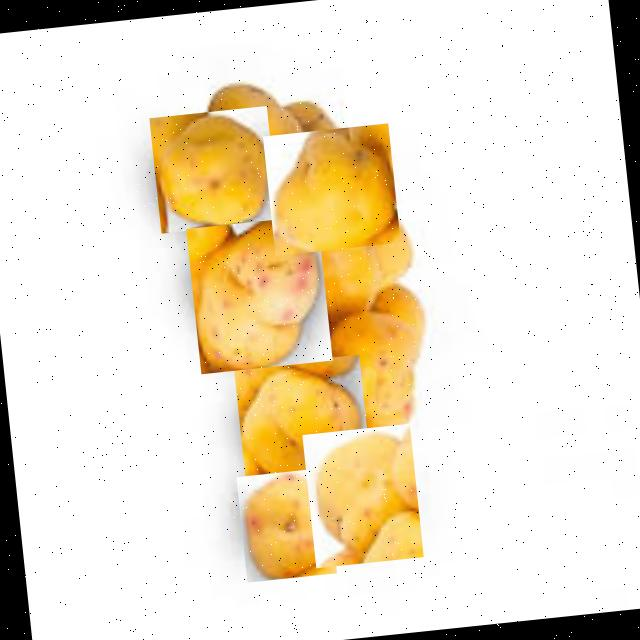Potato: (185, 214, 332, 372), (233, 354, 372, 494), (262, 122, 400, 255), (302, 422, 423, 567), (149, 105, 278, 232), (326, 304, 434, 424), (236, 466, 336, 581)
